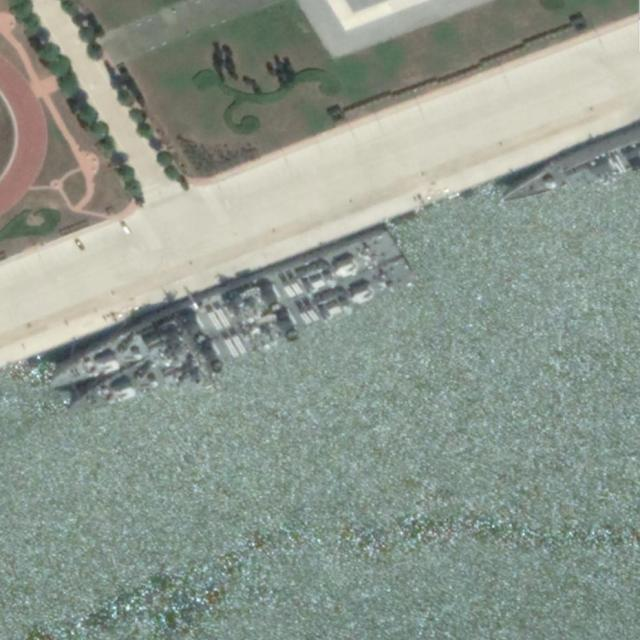Destroyer: (36, 222, 405, 394), (56, 259, 418, 419)
